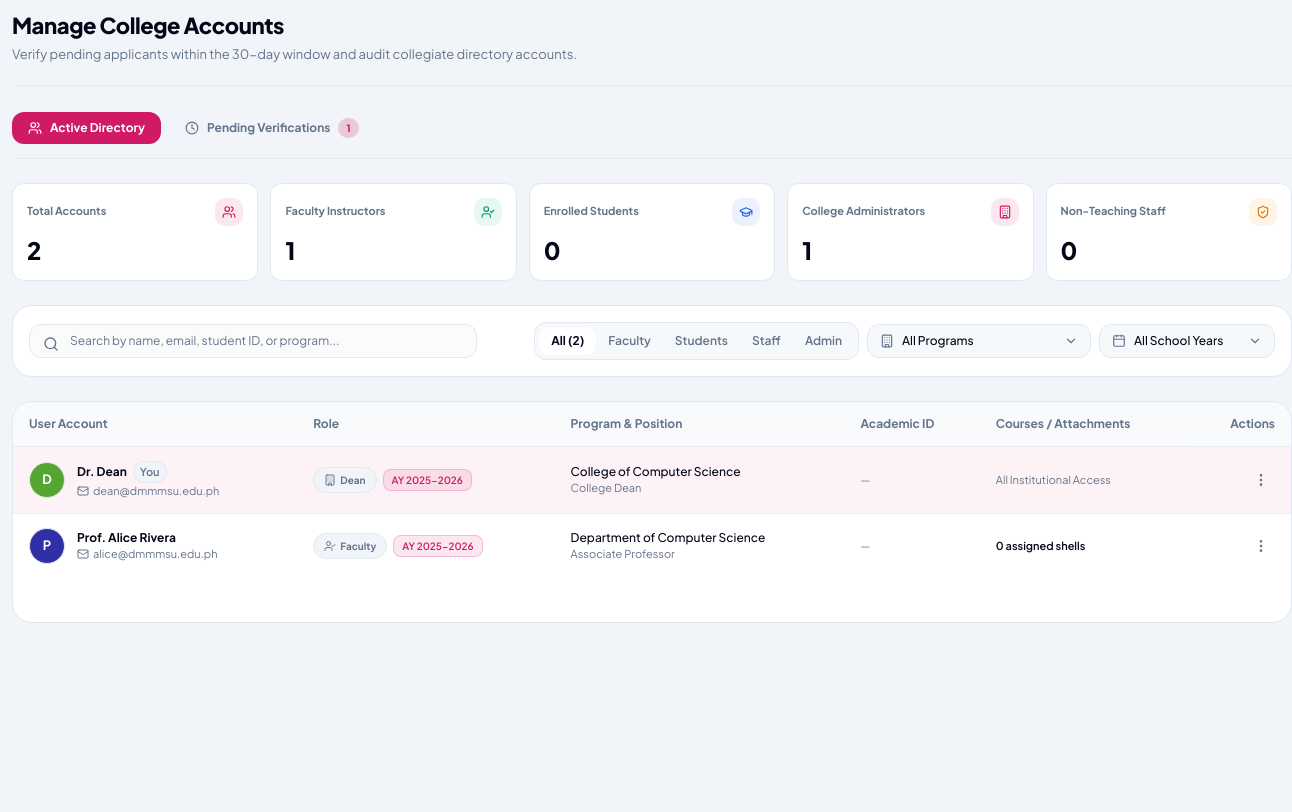
Test: ManageAccountsPage RBAC & Verification Queue › 2c. shows employee applicants without a role as awaiting assignment
Click the tab "Pending Verifications 1".
click(272, 128)  # box [169,110,375,146]
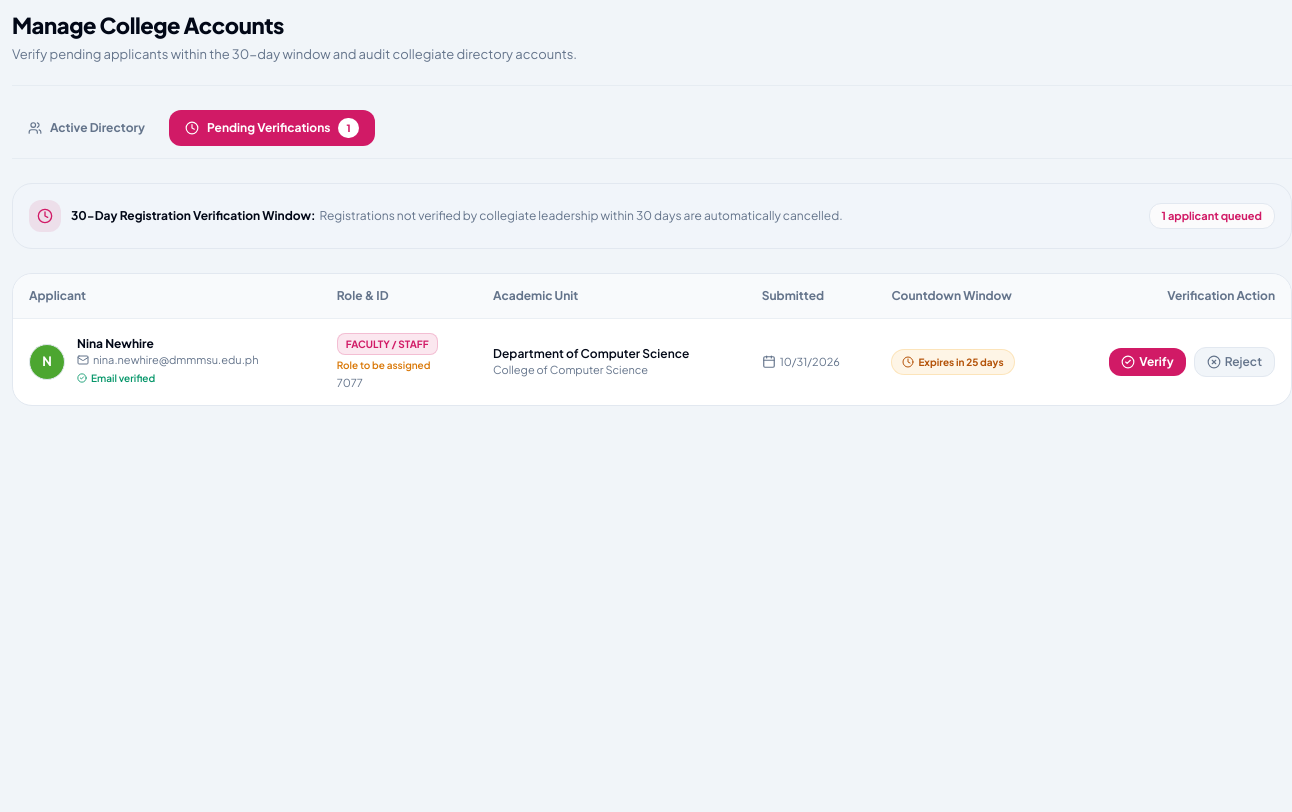
Result: the text "Faculty / Staff" is shown at [337,333,438,355]
Result: the text "Role to be assigned" is shown at [337,359,430,371]
